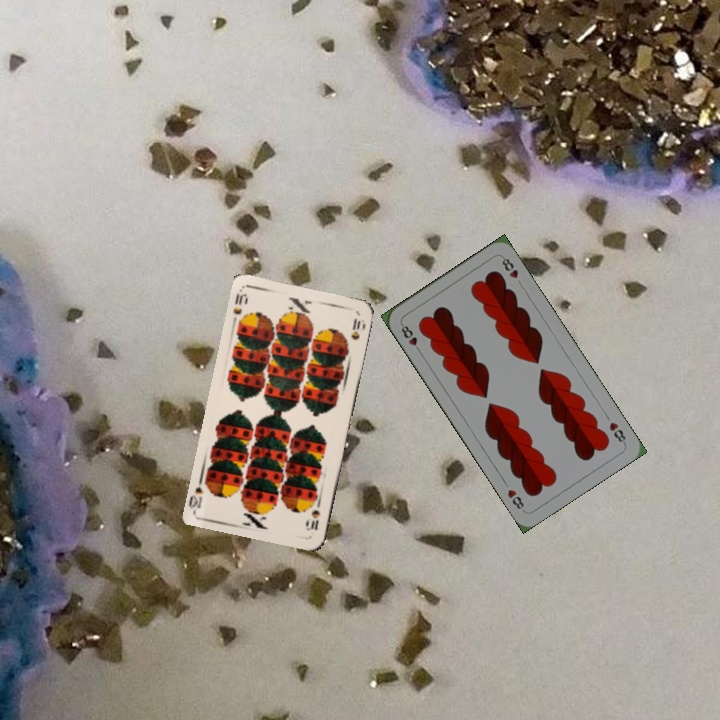H8: (397, 319, 424, 356), (605, 418, 629, 447)
S10: (304, 496, 323, 533), (229, 289, 251, 317)
